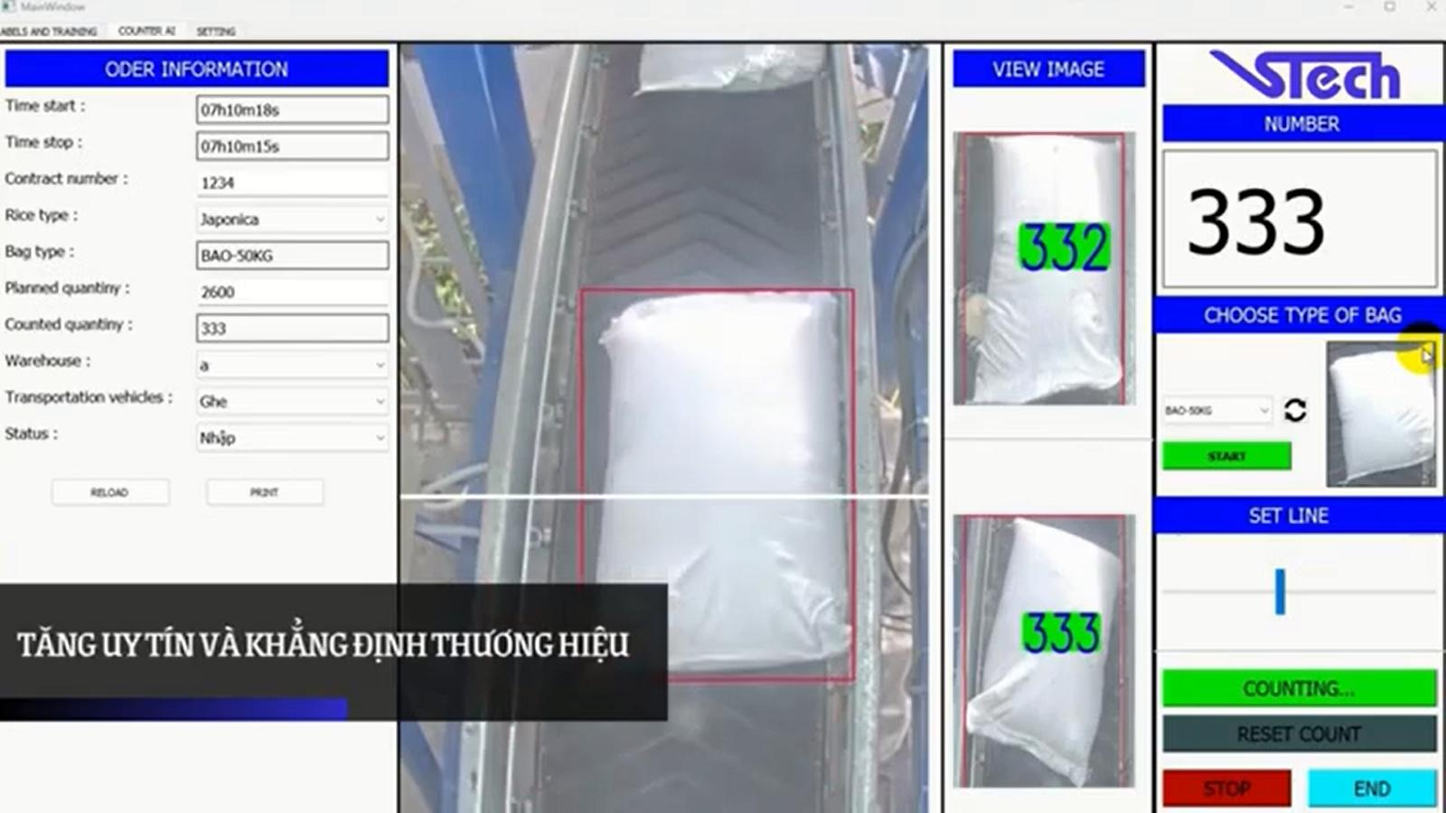rice-bag: (596, 294, 850, 672), (966, 134, 1122, 404), (965, 519, 1117, 786)
